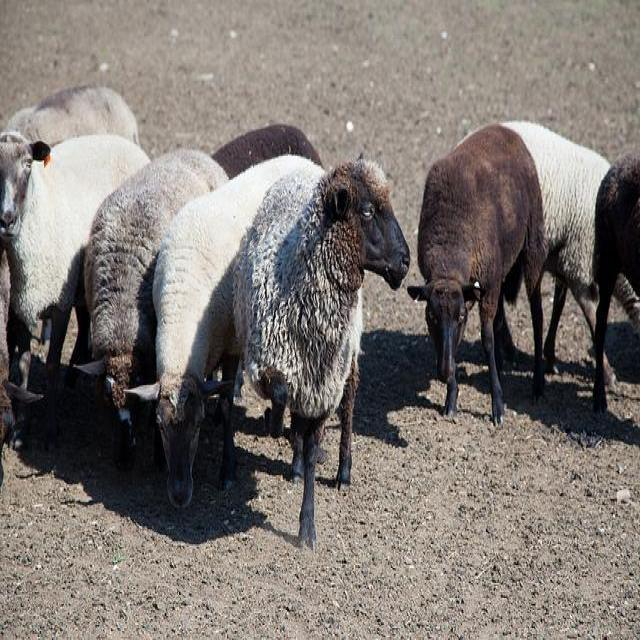Sheep: (121, 156, 325, 509), (233, 152, 407, 554), (74, 148, 231, 470), (407, 124, 546, 426), (0, 132, 151, 391), (496, 119, 639, 388), (592, 147, 639, 414), (4, 88, 141, 148), (210, 121, 323, 177)
